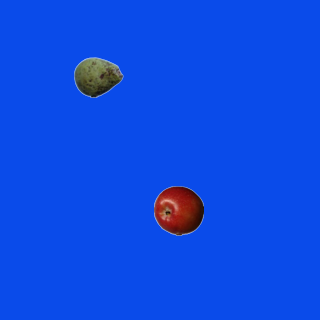Apple Braeburn: (153, 185, 203, 235)
Pear Stone: (73, 52, 123, 102)
